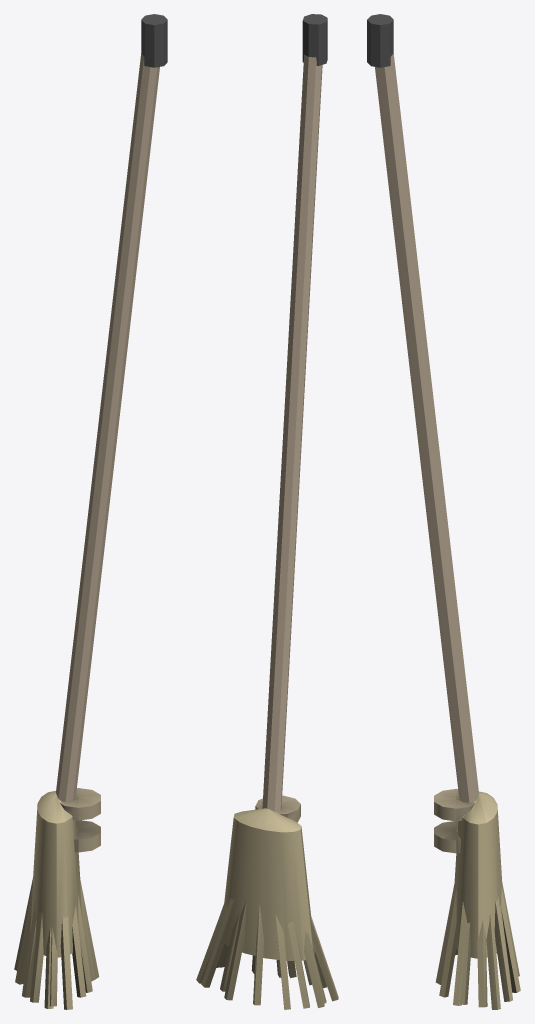
Rendered from broom.glb.
The picture shows the model from 3 angles, left to right: view 1: azimuth 90°, elevation 25°; view 2: azimuth 150°, elevation 25°; view 3: azimuth 270°, elevation 25°; orthographic projection. The views are drawn at different scales.
Parts seen in each view (by area): view 1: static; view 2: static; view 3: static.
Boxes of the visible parts, x1,y1,x2,y2 form: static: (14, 14, 167, 1009); static: (196, 14, 338, 1009); static: (367, 14, 520, 1009).
Size of the model in its own units: 0.197 by 1.36 by 0.1962.
